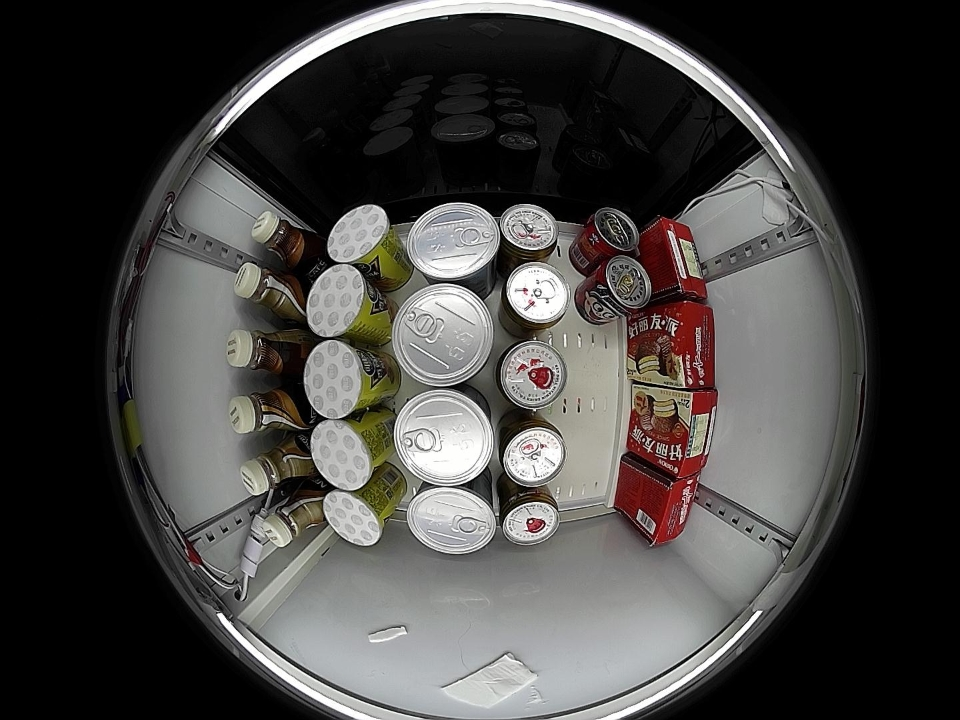haitai: (392, 282, 495, 388), (393, 387, 496, 486), (407, 202, 500, 284), (406, 484, 497, 556)
haoliyou: (652, 388, 718, 478), (652, 301, 715, 389), (645, 216, 708, 303), (636, 471, 700, 547)
hongniu: (495, 339, 568, 411), (498, 489, 560, 547)
hongniu2: (498, 261, 570, 335), (498, 415, 567, 487), (498, 203, 559, 264)
kafei: (239, 434, 314, 497), (233, 262, 307, 323), (251, 210, 321, 272), (228, 384, 309, 435), (260, 486, 326, 548), (225, 328, 305, 378)
kebike: (303, 339, 377, 420), (306, 264, 381, 340), (310, 417, 383, 491), (323, 485, 393, 547), (327, 204, 389, 262)
wangzainiunai: (587, 255, 651, 319), (581, 207, 641, 260)
